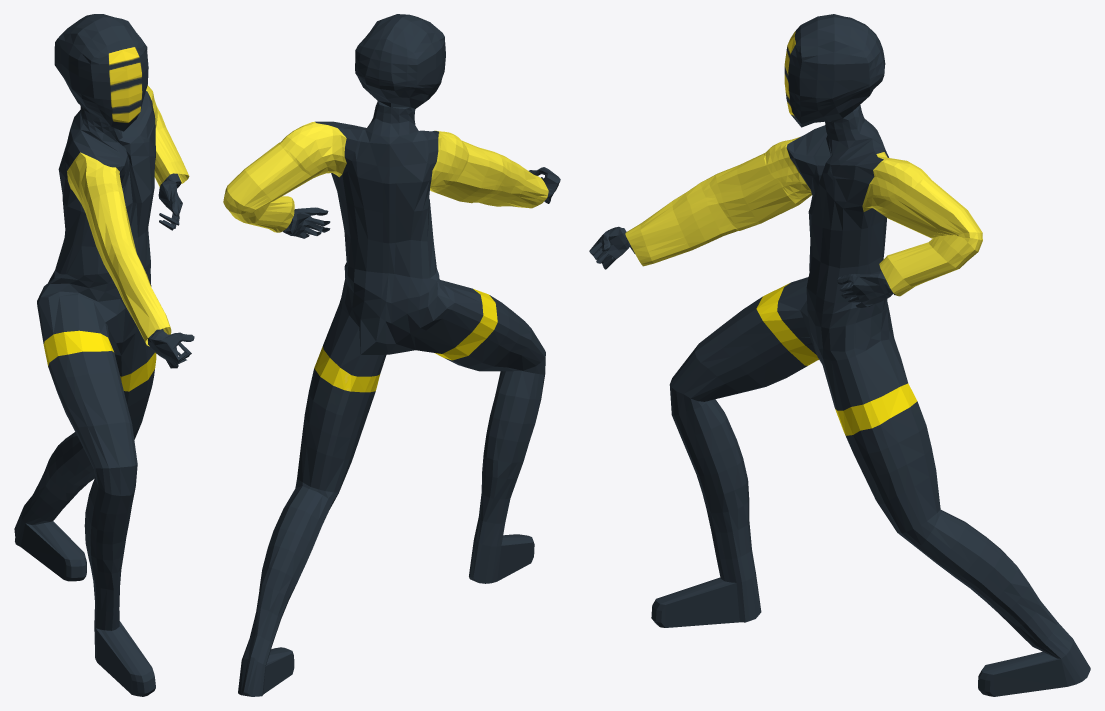
File: Sentry_WR_000003.obj
3 renders of one model, left to right at view 1: azimuth 30°, elevation 25°; view 2: azimuth 150°, elevation 25°; view 3: azimuth 270°, elevation 25°, orthographic. The views are drawn at different scales.
Visible parts, largest first — view 1: Cube; view 2: Cube; view 3: Cube.
Part boxes in pixels (x1,y1,x2,y2): Cube: (14,14,194,696); Cube: (223,14,560,696); Cube: (589,14,1090,696).
Size of the model in its own units: 1.19 by 3.62 by 2.53.
